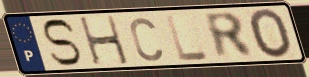C: (128, 16, 165, 63)
H: (77, 14, 132, 67)
L: (163, 12, 212, 63)
O: (247, 7, 295, 60)
R: (201, 11, 258, 61)
S: (40, 18, 84, 69)
